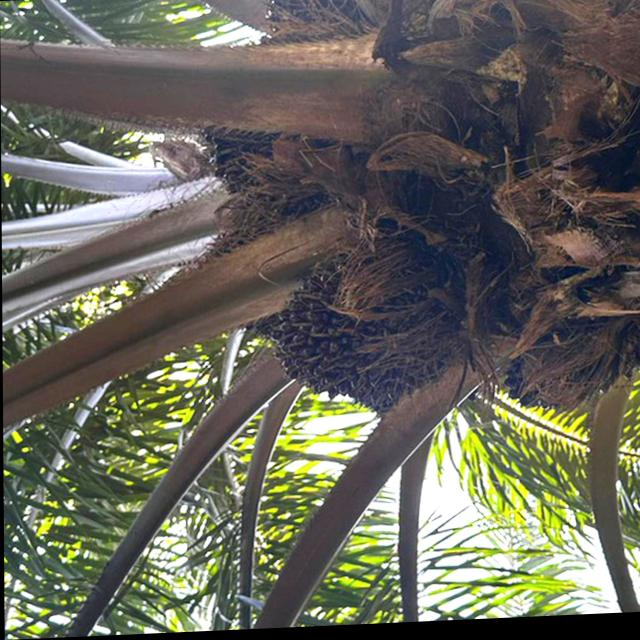almost: (257, 237, 467, 432)
